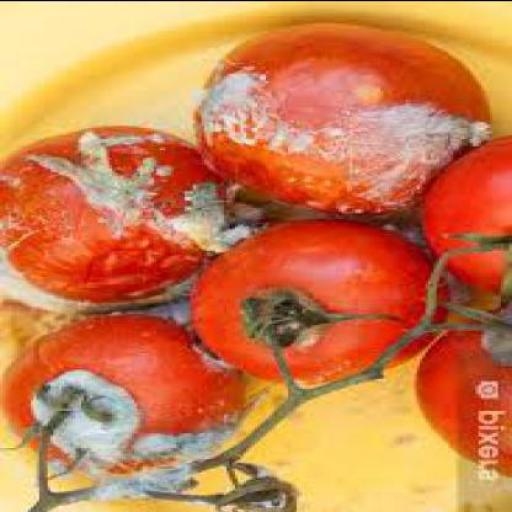biodegradable: (192, 20, 496, 212), (0, 121, 244, 311), (184, 216, 445, 380), (0, 310, 241, 475), (408, 309, 510, 473), (420, 130, 509, 292)
